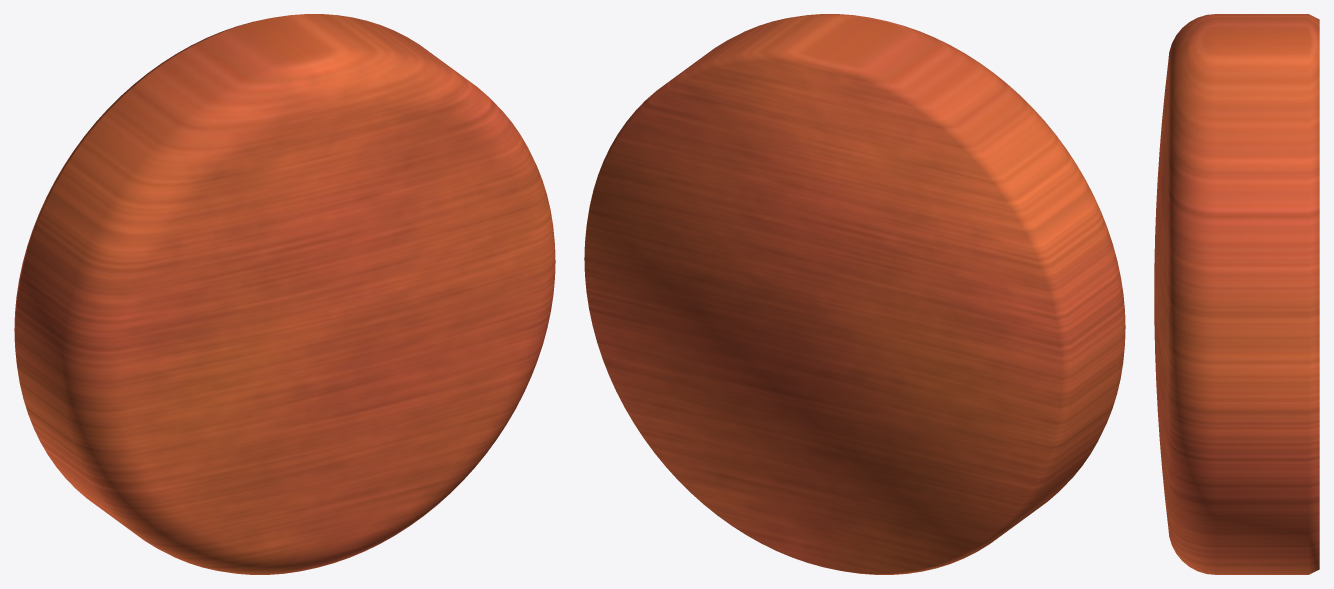
Rendered from token.glb.
3 views of the same model, side by side, from view 1: azimuth 30°, elevation 25°; view 2: azimuth 150°, elevation 25°; view 3: azimuth 270°, elevation 25° (orthographic).
Parts seen in each view (by area): view 1: token; view 2: token; view 3: token.
Boxes of the visible parts, bbox=[...] form: token: bbox=[14, 14, 555, 574]; token: bbox=[584, 14, 1125, 574]; token: bbox=[1154, 14, 1319, 574].
Size of the model in its own units: 1 by 1 by 0.295.
1 material, 1 textured.
